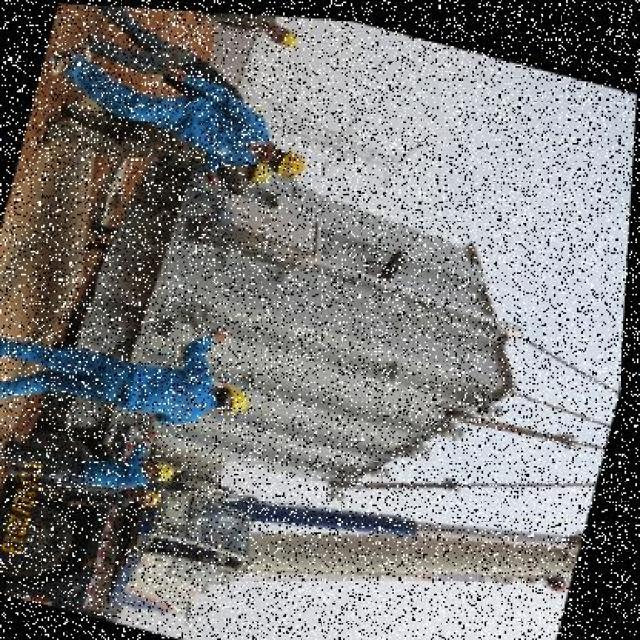helmet: (206, 374, 258, 415), (266, 139, 311, 181)
